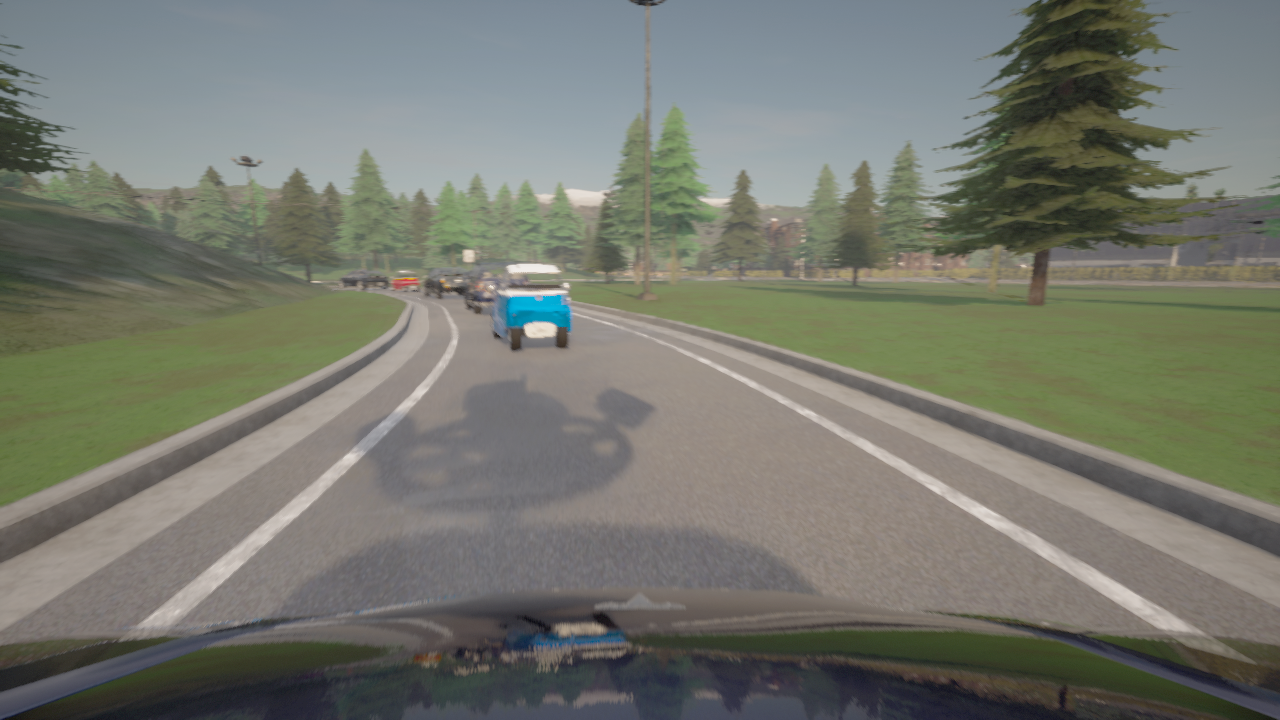cyclist: (0, 588, 1279, 719), (487, 264, 570, 351), (464, 262, 515, 315), (423, 267, 471, 299), (338, 269, 389, 290), (391, 271, 420, 292)
